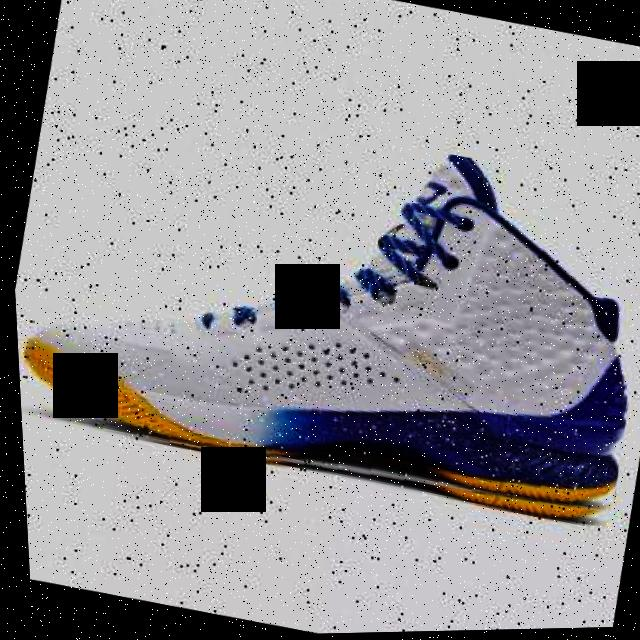shoe: (3, 73, 640, 543)
